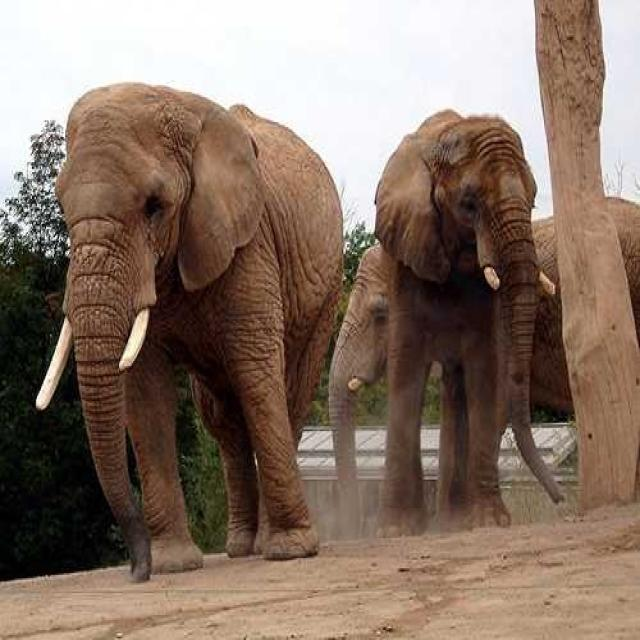Elephant: (34, 79, 344, 583), (377, 103, 562, 538)
